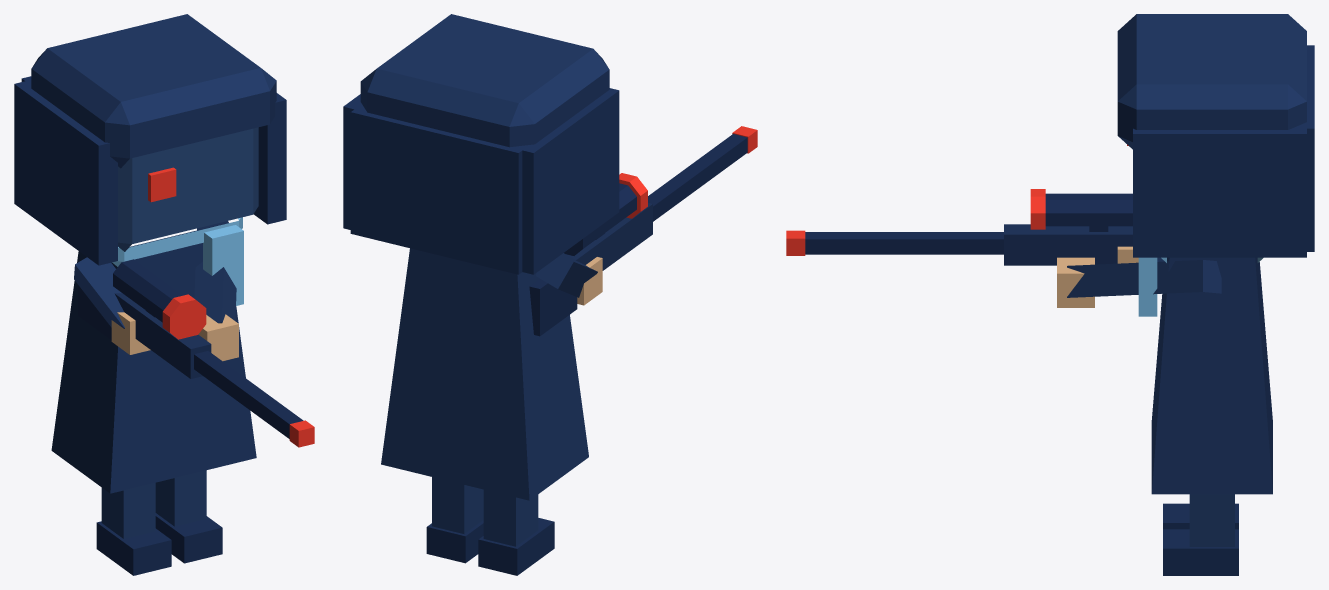
File: sniper_enemy_r2.glb
3 renders of one model, left to right at view 1: azimuth 30°, elevation 25°; view 2: azimuth 150°, elevation 25°; view 3: azimuth 270°, elevation 25°, orthographic. The views are drawn at different scales.
Visible parts, largest first — view 1: sniper_enemy_r2_mesh; view 2: sniper_enemy_r2_mesh; view 3: sniper_enemy_r2_mesh.
Boxes of the visible parts, x1=… form: sniper_enemy_r2_mesh: x1=14, y1=14, x2=314, y2=575; sniper_enemy_r2_mesh: x1=343, y1=14, x2=757, y2=575; sniper_enemy_r2_mesh: x1=786, y1=14, x2=1314, y2=575.
Bounding box in the file's own units: 0.6823 × 1.7 × 1.61.
1 material, 1 textured.
